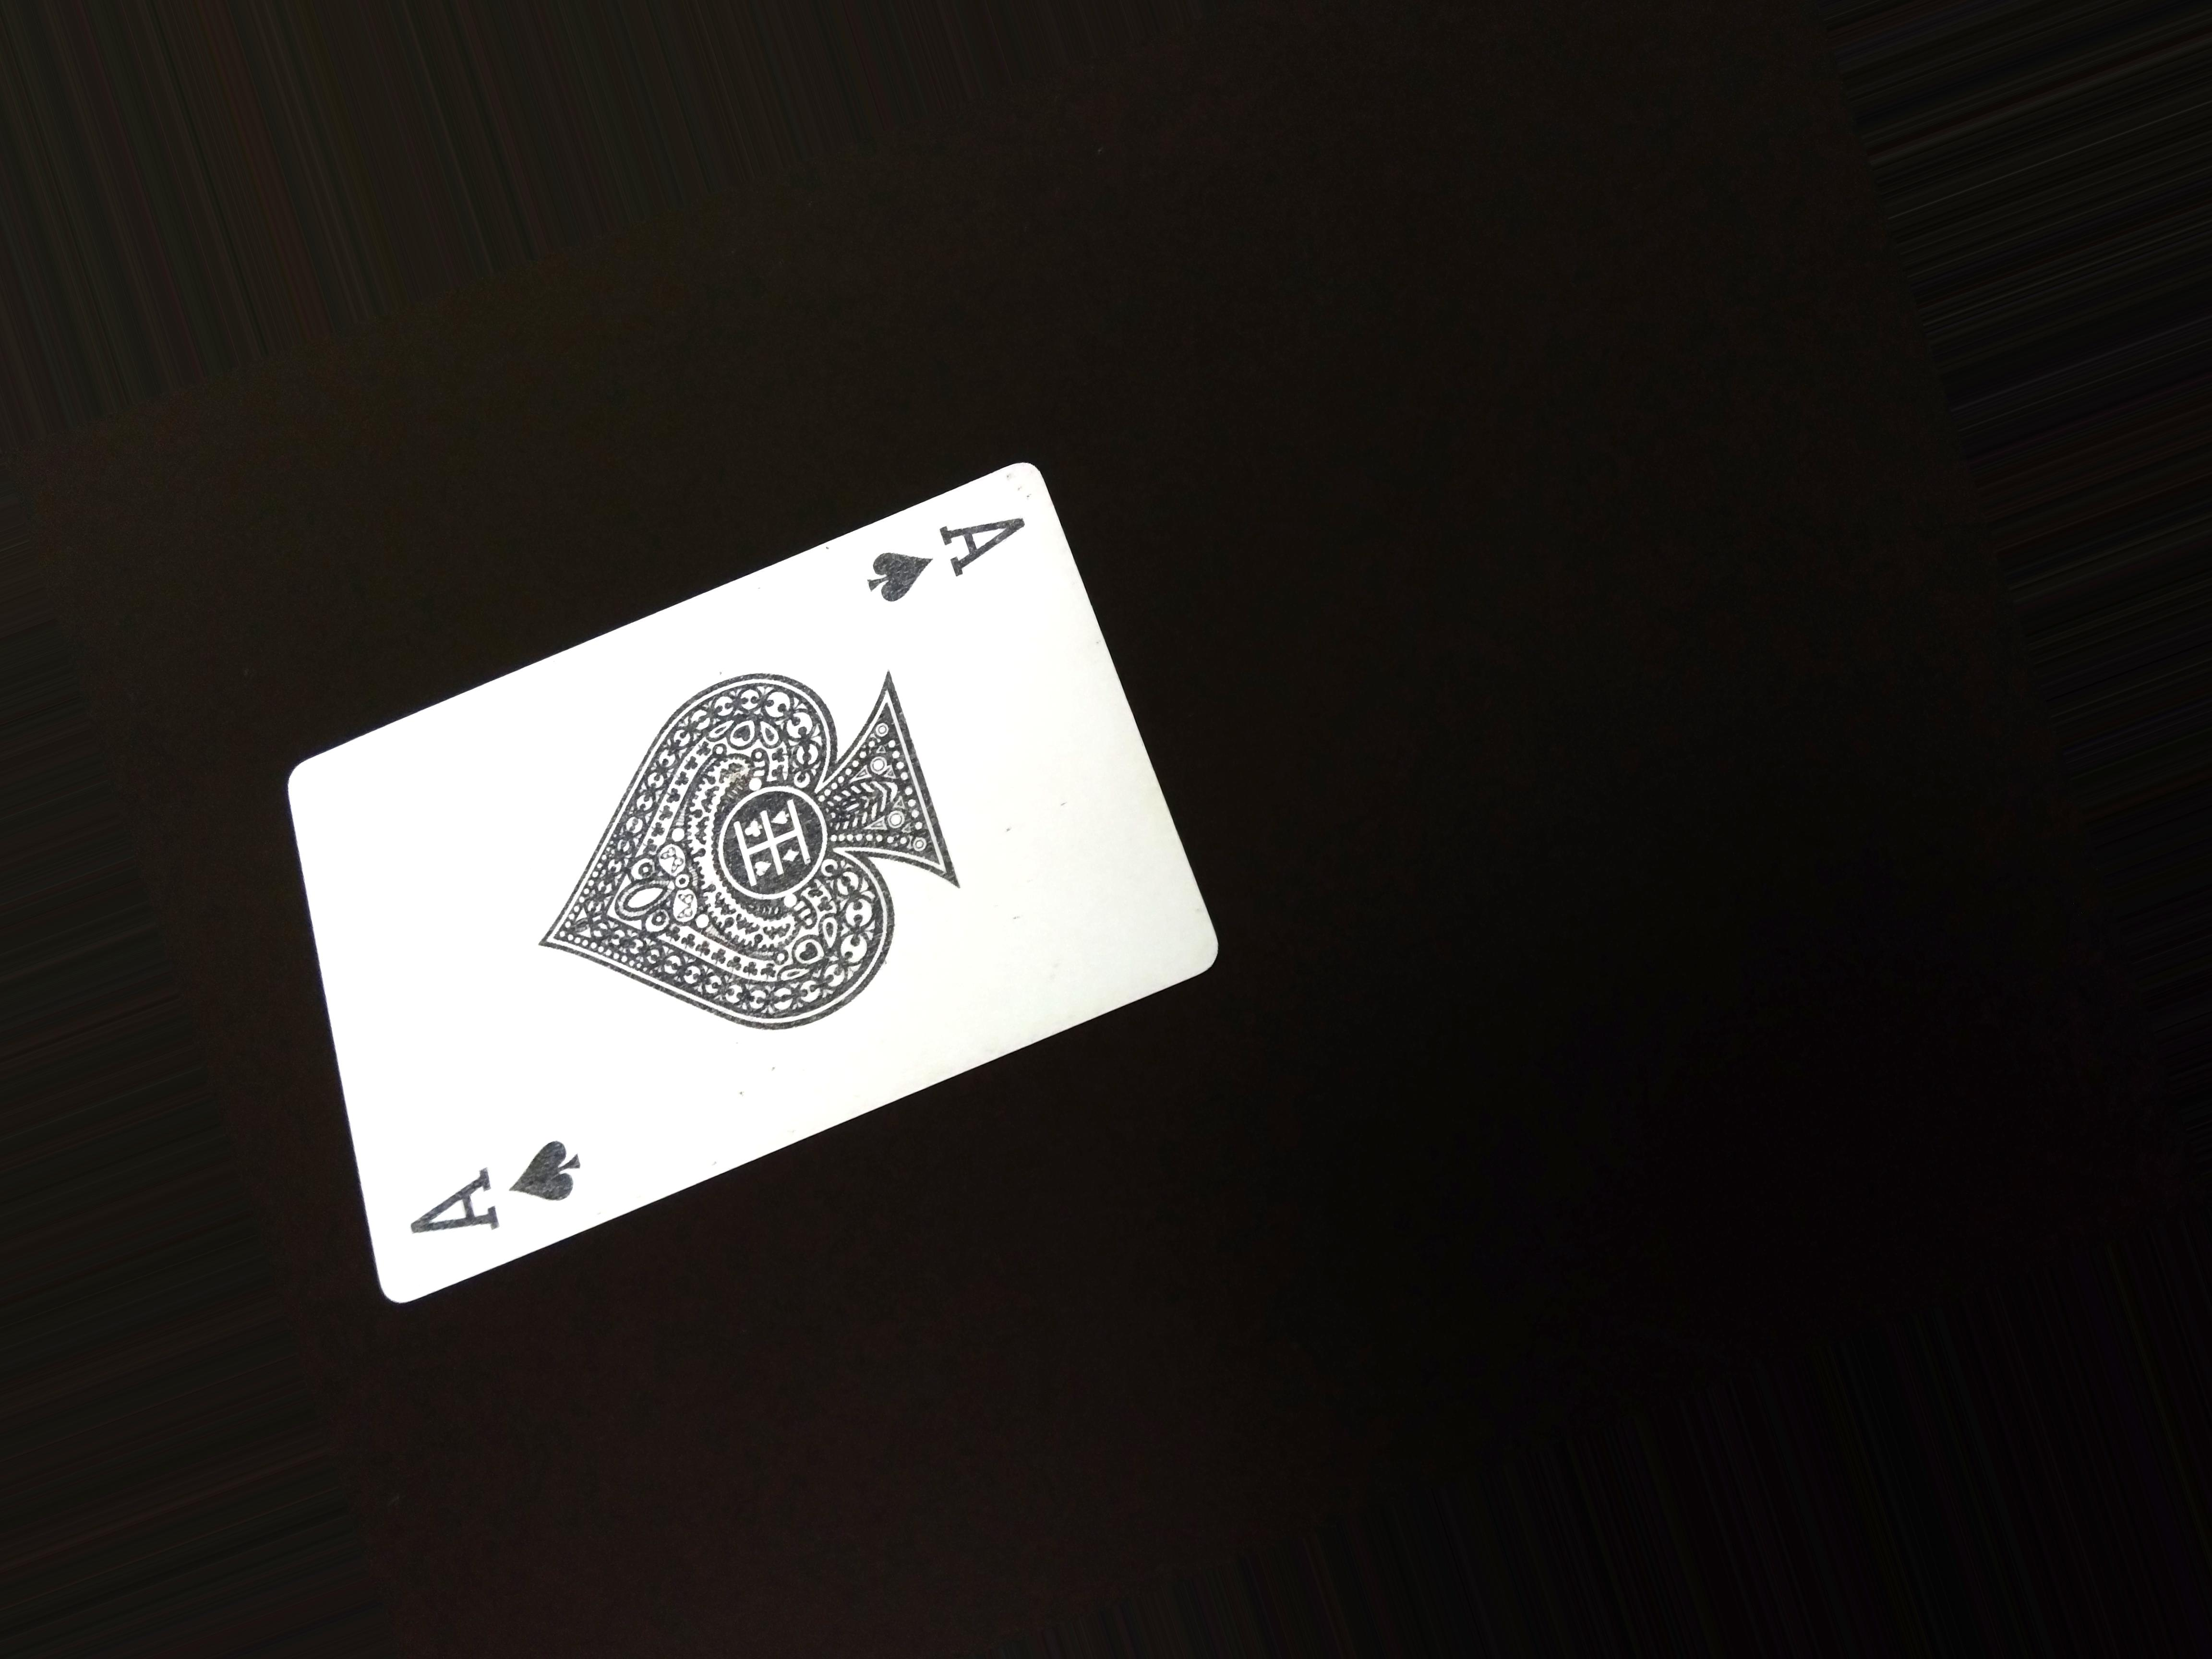AS: (860, 500, 1040, 615)
